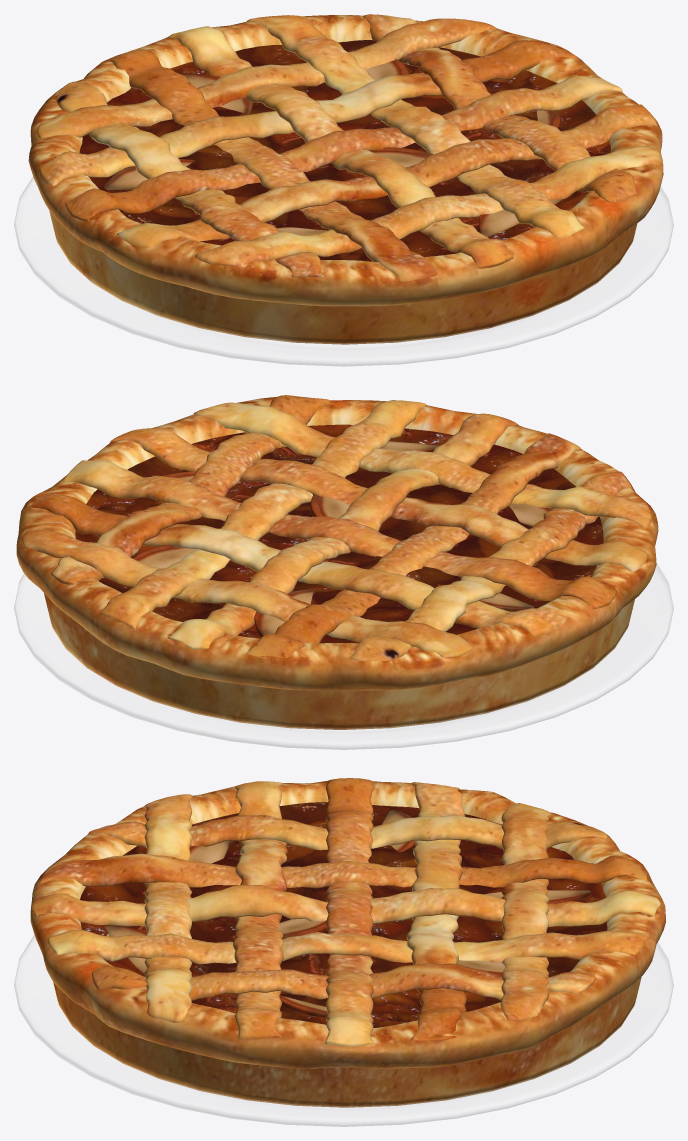
Rendered from sobremesa.glb.
3 views of the same model, one above another, from view 1: azimuth 30°, elevation 25°; view 2: azimuth 150°, elevation 25°; view 3: azimuth 270°, elevation 25° (orthographic).
Parts seen in each view (by area): view 1: 11547_Dessert_pie_v3_l2; view 2: 11547_Dessert_pie_v3_l2; view 3: 11547_Dessert_pie_v3_l2.
Boxes of the visible parts, x1=… form: 11547_Dessert_pie_v3_l2: x1=14, y1=14, x2=673, y2=366; 11547_Dessert_pie_v3_l2: x1=14, y1=395, x2=673, y2=749; 11547_Dessert_pie_v3_l2: x1=14, y1=778, x2=673, y2=1126.
Bounding box in the file's own units: 0.2484 × 0.0521 × 0.2484.
2 materials, 1 textured.
